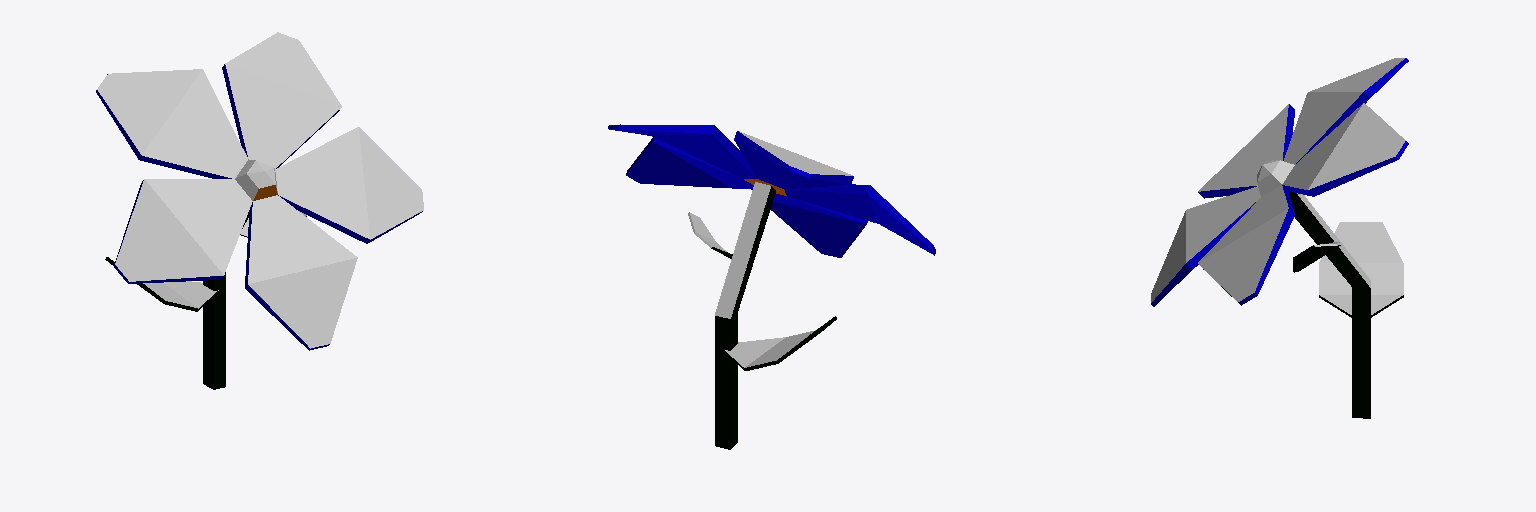
File: Flower_2_Snow.obj
The picture shows the model from 3 angles: view 1: azimuth 30°, elevation 25°; view 2: azimuth 150°, elevation 25°; view 3: azimuth 270°, elevation 25°; orthographic projection.
Visible parts, largest first — view 1: Flower_2_Snow_Cube.012; view 2: Flower_2_Snow_Cube.012; view 3: Flower_2_Snow_Cube.012.
Boxes of the visible parts, x1,y1,x2,y2 form: Flower_2_Snow_Cube.012: [96, 32, 423, 389]; Flower_2_Snow_Cube.012: [608, 124, 935, 449]; Flower_2_Snow_Cube.012: [1151, 58, 1408, 418].
Size of the model in its own units: 0.712 by 0.7042 by 0.5186.